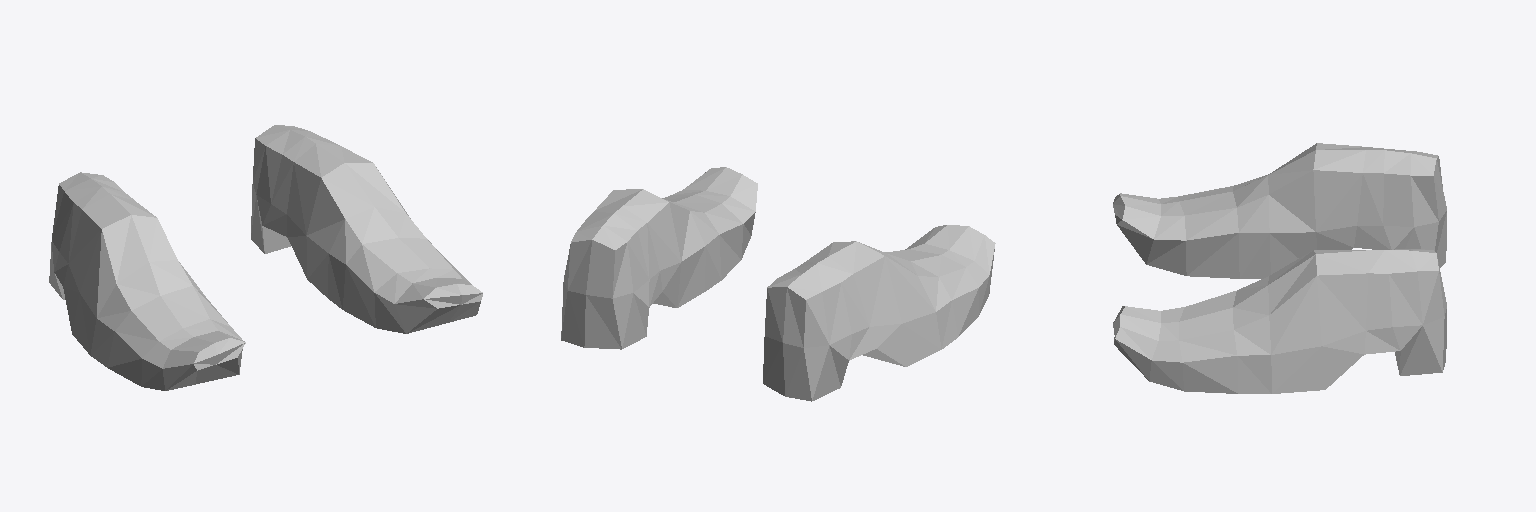
The model's file is shoes.obj.
3 renders of one model, left to right at view 1: azimuth 30°, elevation 25°; view 2: azimuth 150°, elevation 25°; view 3: azimuth 270°, elevation 25°, orthographic.
Visible parts, largest first — view 1: clothes boot r_foot, r_foot1 group5 clothes, group5 clothes r_toes1, clothes r_toes boot; view 2: r_foot1 group5 clothes, clothes boot r_foot, group5 clothes r_toes1, clothes r_toes boot; view 3: clothes boot r_foot, r_foot1 group5 clothes, clothes r_toes boot, group5 clothes r_toes1.
Boxes of the visible parts, x1=… form: clothes boot r_foot: x1=251, y1=125, x2=426, y2=309; r_foot1 group5 clothes: x1=49, y1=172, x2=205, y2=366; group5 clothes r_toes1: x1=107, y1=286, x2=245, y2=390; clothes r_toes boot: x1=343, y1=238, x2=482, y2=333; r_foot1 group5 clothes: x1=763, y1=241, x2=957, y2=401; clothes boot r_foot: x1=561, y1=189, x2=721, y2=349; group5 clothes r_toes1: x1=885, y1=225, x2=995, y2=336; clothes r_toes boot: x1=662, y1=167, x2=757, y2=279; clothes boot r_foot: x1=1233, y1=249, x2=1446, y2=393; r_foot1 group5 clothes: x1=1233, y1=143, x2=1446, y2=278; clothes r_toes boot: x1=1113, y1=291, x2=1238, y2=393; group5 clothes r_toes1: x1=1113, y1=186, x2=1239, y2=278.
Size of the model in its own units: 33.46 by 10.56 by 28.56.